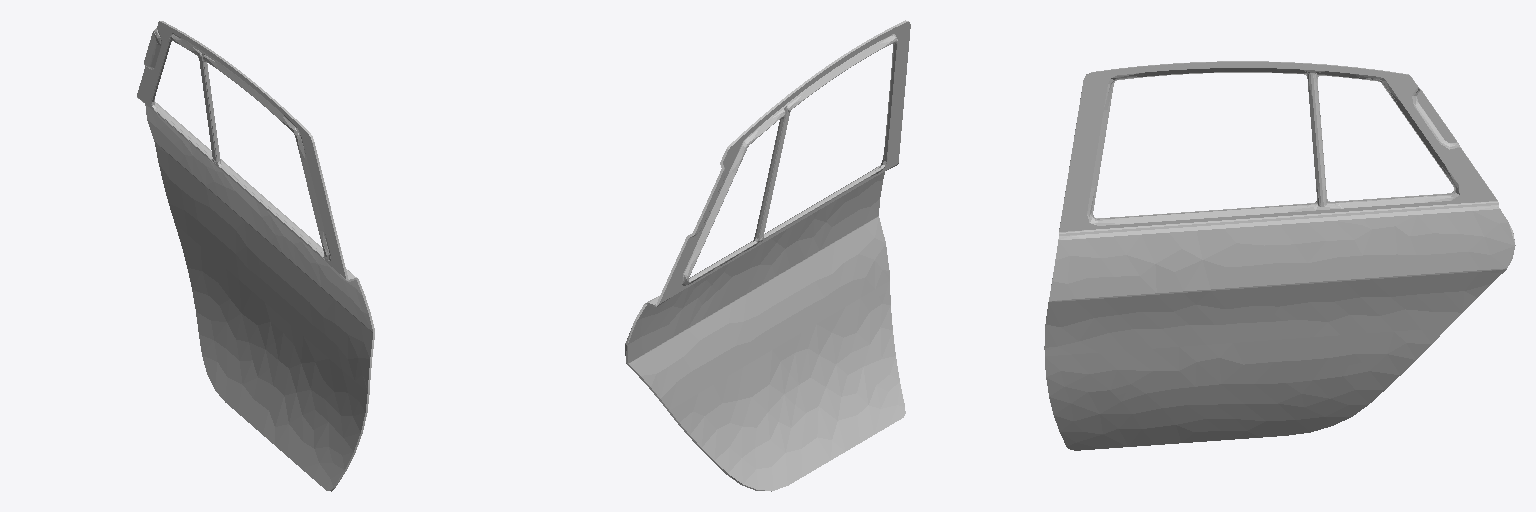
URDF robot description (carDoor):
<?xml version="1.0"?>
<robot name="carDoor">
  <link name="carDoor_base_link">

    <visual>
      <origin rpy="0 0 0" xyz="0.0 0.0 0.0"/>
      <geometry>
          <mesh filename="door_test.obj" scale="1 1 1"/>
      </geometry>
      <material name="gray">
        <color rgba="0.8 0.8 0.8 1"/>
      </material>
    </visual>
    <collision>
      <origin rpy="0 0 0" xyz="0.0 0.0 0.0"/>
      <geometry>
          <mesh filename="door_test.obj" scale="1 1 1"/>
      </geometry>
    </collision>
  </link>
</robot>

--- Render facts (derived) ---
Views: 3 orthographic renders of the robot side by side, from view 1: azimuth 30°, elevation 25°; view 2: azimuth 150°, elevation 25°; view 3: azimuth 270°, elevation 25°.
Model carDoor with 1 links and 0 joints (none), rooted at carDoor_base_link, posed all joints at 0.
Visible links, largest first — view 1: carDoor_base_link; view 2: carDoor_base_link; view 3: carDoor_base_link.
Boxes of the visible links, bbox=[...] form: carDoor_base_link: bbox=[137, 21, 374, 491]; carDoor_base_link: bbox=[625, 20, 910, 491]; carDoor_base_link: bbox=[1044, 61, 1515, 450].
Bounding box of the posed robot: 0.1278 × 1 × 0.8983 m (x, y, z).
1 mesh visuals loaded from 1 distinct referenced files (1 OBJ).